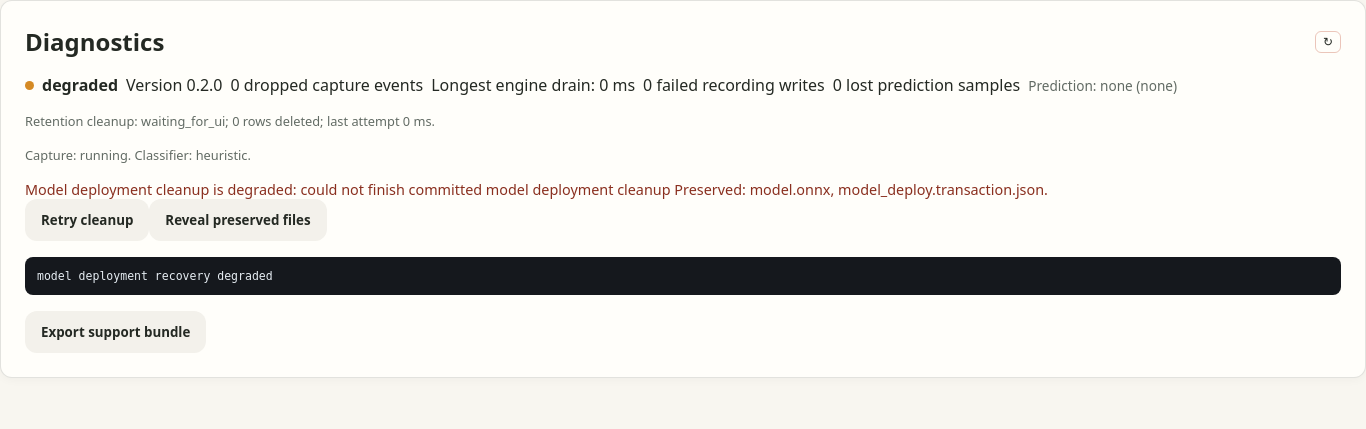
DiagnosticsCard model deployment recovery › shows preserved paths and retries cleanup when degraded
Expected: the text "Model deployment cleanup is degraded" is shown, x1=25 y1=180 x2=300 y2=199
Expected: the text "Preserved: model.onnx, model_deploy.transaction.json" is shown, x1=671 y1=180 x2=1048 y2=199
Click the button "Reveal preserved files".
click(238, 220)  # box x1=149 y1=199 x2=327 y2=241
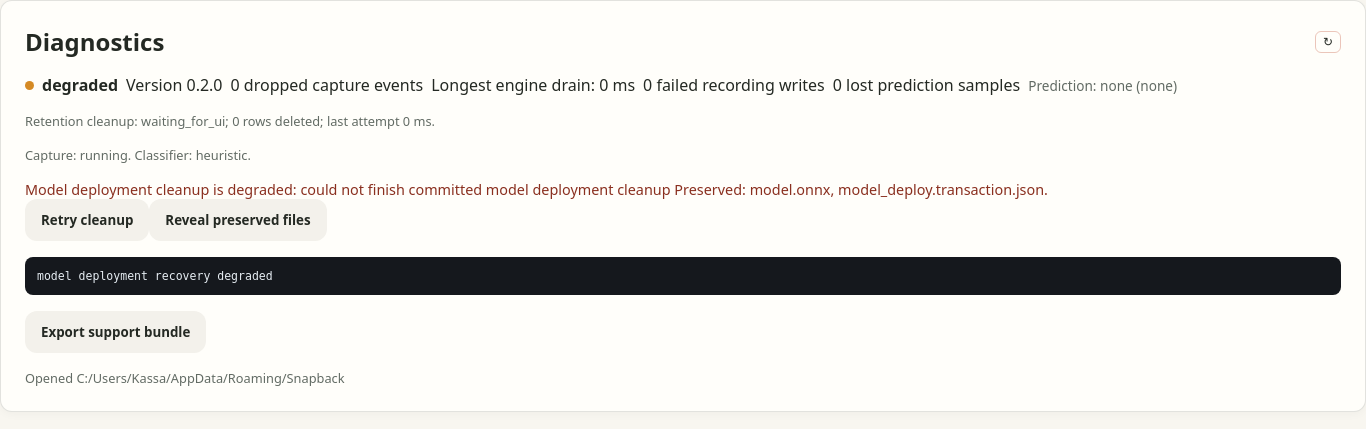
Result: the text "Opened C:/Users/Kassa/AppData/Roaming/Snapback" is shown at x1=25 y1=369 x2=345 y2=387
Click the button "Retry cleanup".
click(87, 220)  # box x1=25 y1=199 x2=149 y2=241
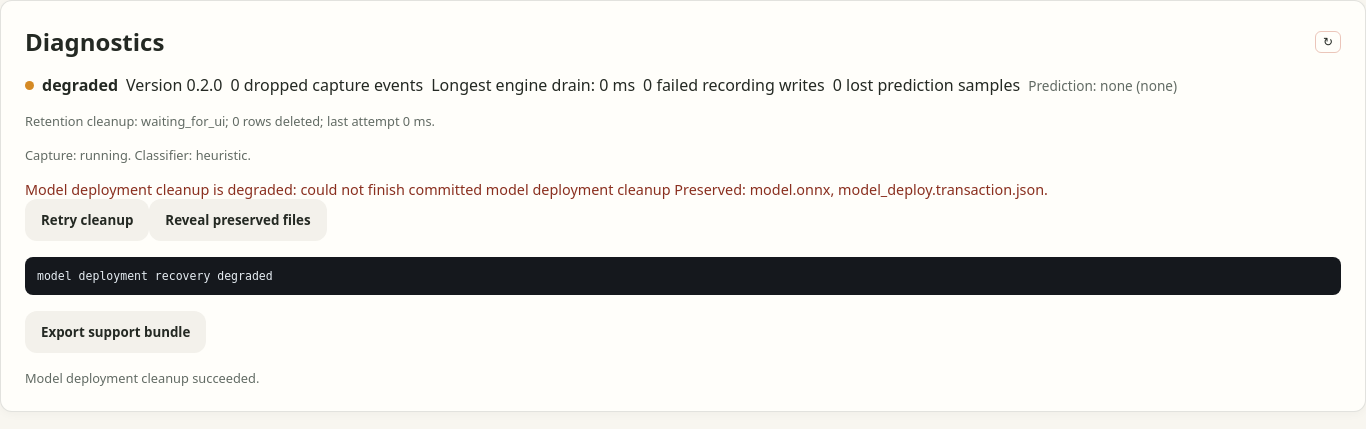
Result: the text "Model deployment cleanup succeeded." is shown at x1=25 y1=369 x2=259 y2=387
